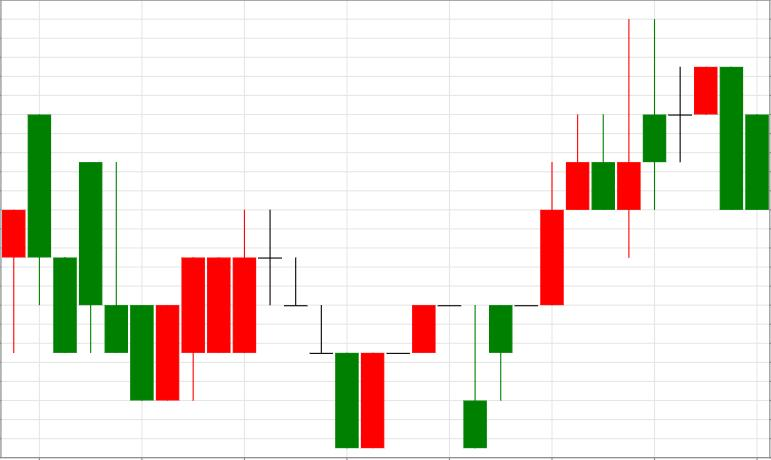bearish_engulfing_fall: (617, 19, 743, 258)
bullish_engulfing_rise: (258, 210, 384, 449)
